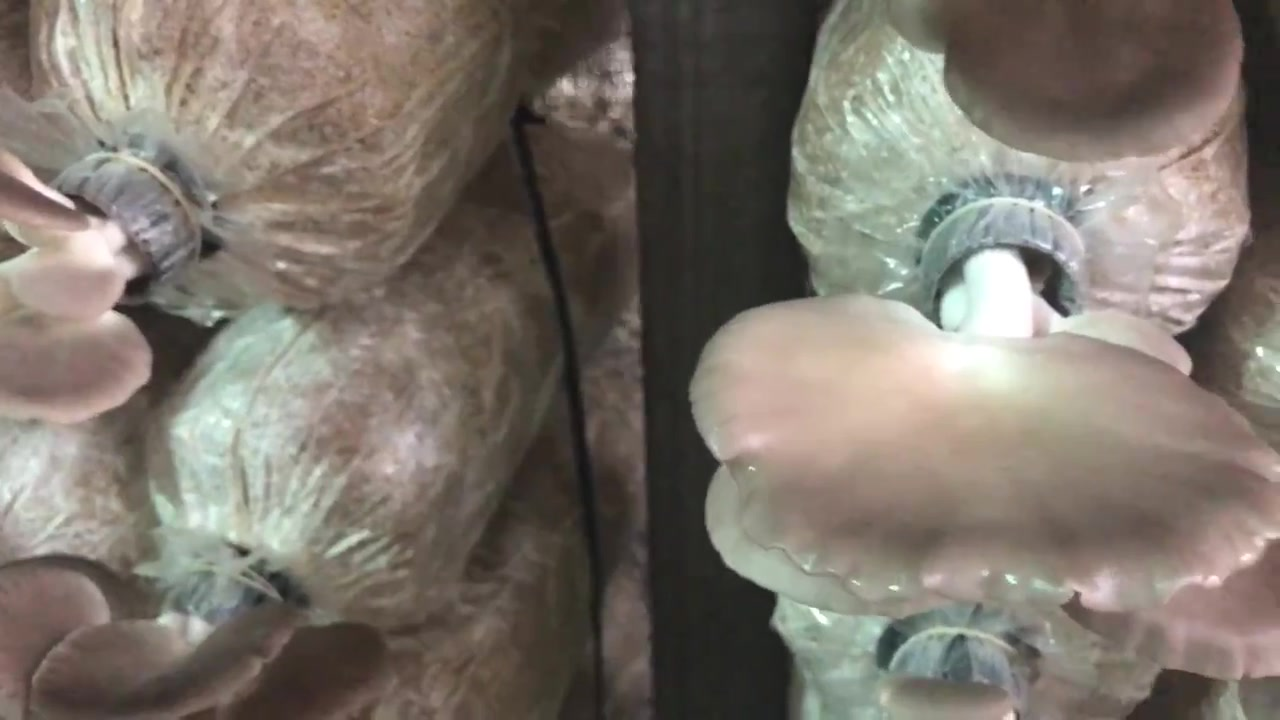nam: (685, 210, 1280, 621), (1, 553, 398, 720), (1, 138, 213, 425), (888, 3, 1250, 170)
